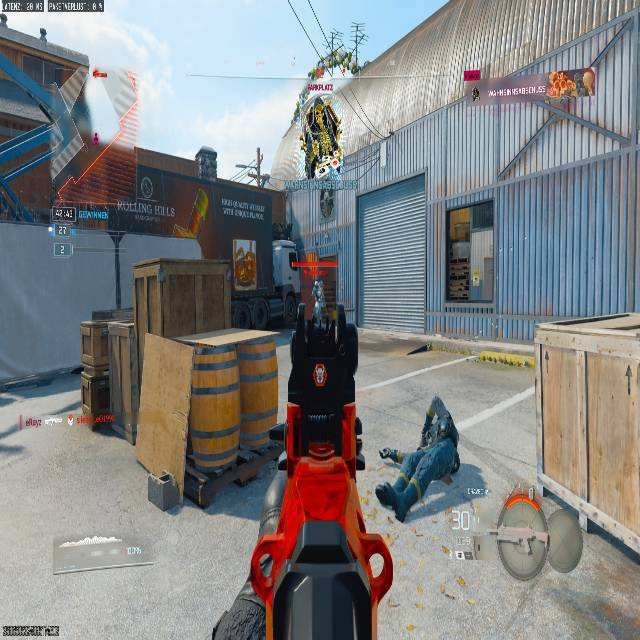player: (302, 90, 343, 178), (304, 280, 327, 329), (312, 278, 325, 319)
